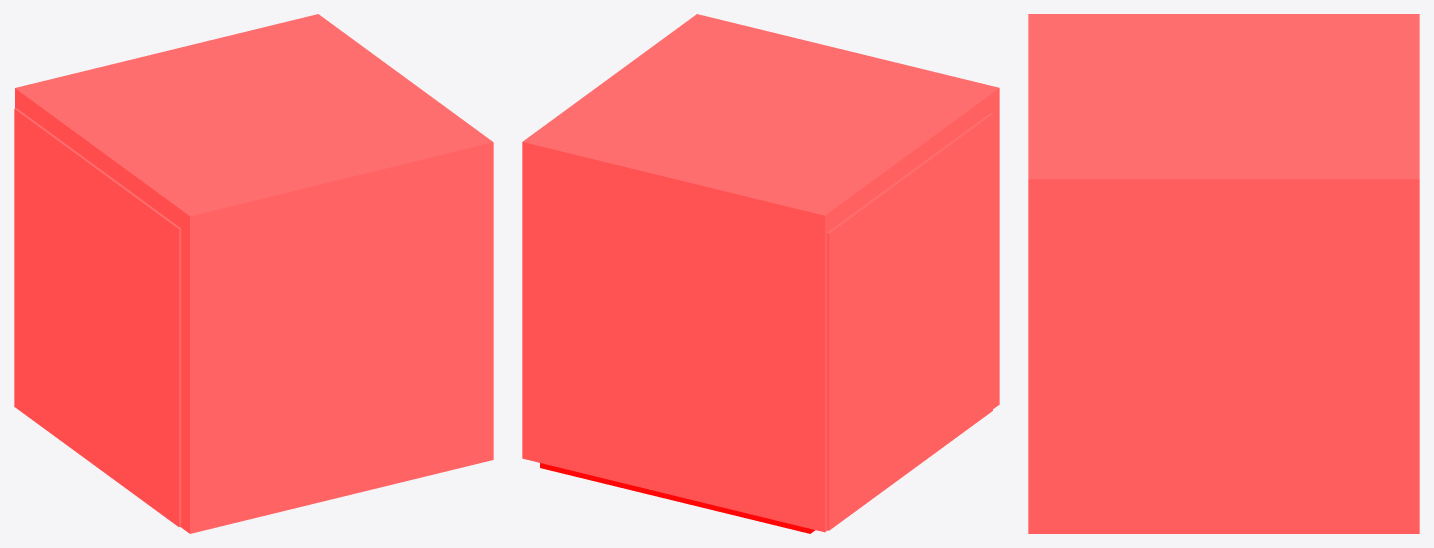
Rendered from hit-fire.glb.
3 renders of one model, left to right at view 1: azimuth 30°, elevation 25°; view 2: azimuth 150°, elevation 25°; view 3: azimuth 270°, elevation 25°, orthographic. The views are drawn at different scales.
Visible parts, largest first — view 1: cube_08, cube_02; view 2: cube_08, cube_02, cube_03; view 3: cube_08.
Boxes of the visible parts, box(x1,y1,x2,y2) form: cube_08: box(15, 14, 493, 533); cube_02: box(14, 108, 181, 526); cube_08: box(522, 14, 999, 532); cube_02: box(827, 113, 992, 530); cube_03: box(540, 463, 815, 533); cube_08: box(1028, 14, 1419, 533).
Bounding box in the file's own units: 0.4622 × 0.4665 × 0.4587.
